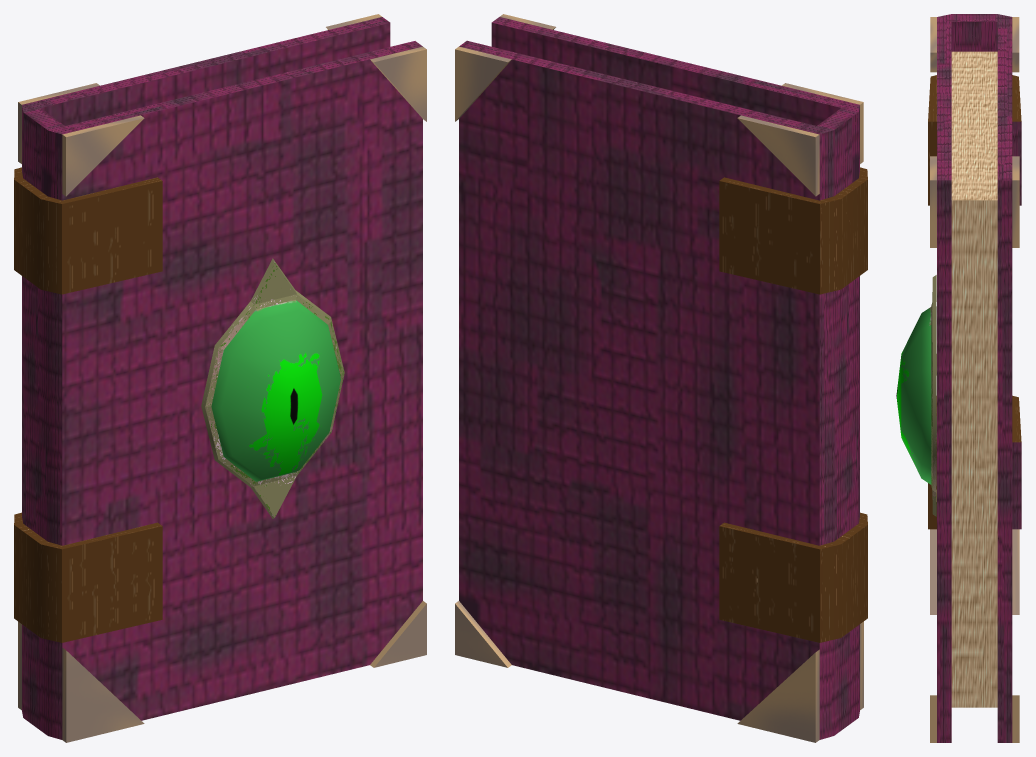
The model's file is Kreckler_TheIdle.fbx.
3 renders of one model, left to right at view 1: azimuth 30°, elevation 25°; view 2: azimuth 150°, elevation 25°; view 3: azimuth 270°, elevation 25°, orthographic. The views are drawn at different scales.
Visible parts, largest first — view 1: The_Idle; view 2: The_Idle; view 3: The_Idle.
Part boxes in pixels (bbox=[...]): The_Idle: bbox=[14, 14, 426, 742]; The_Idle: bbox=[455, 14, 867, 742]; The_Idle: bbox=[896, 14, 1021, 742].
Size of the model in its own units: 2.35 by 3.62 by 0.7299.
